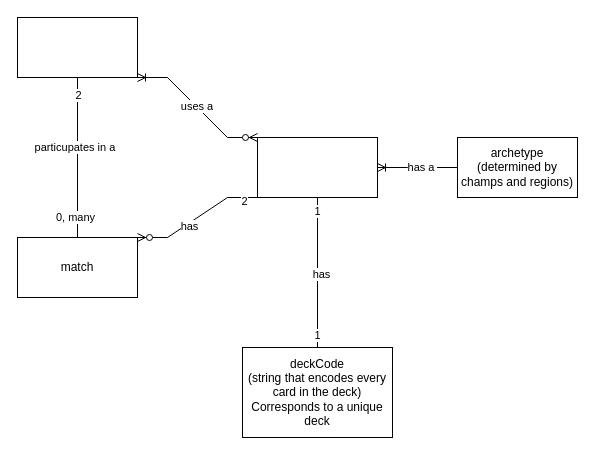
This 595x455 diagram has some shape labels left out. The shapes that lost their labels are listed below. From the top down, each one's box as (x1, y1, x2, y2) in pixels, then its label:
(16, 16, 138, 78): player
(256, 136, 378, 198): deck
